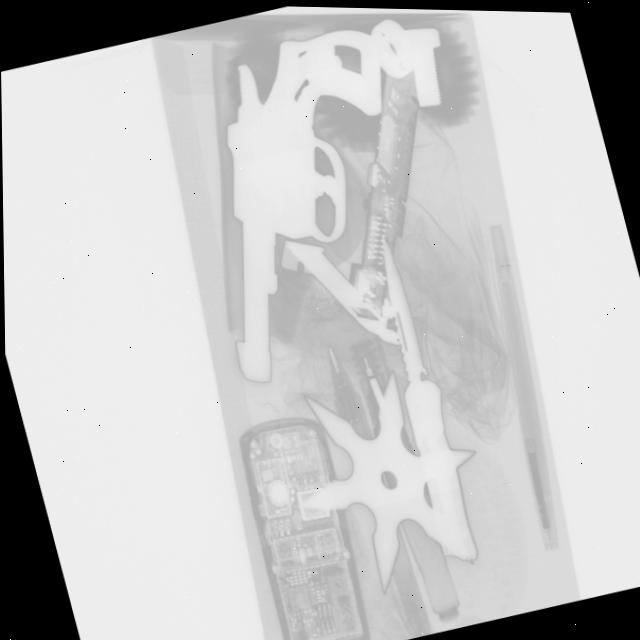knife: (366, 239, 482, 551)
pistol: (159, 13, 453, 391)
